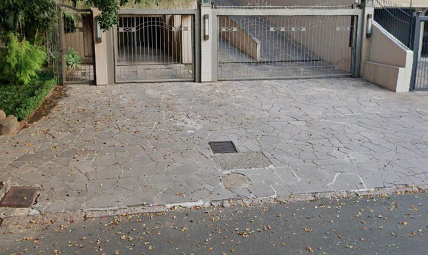vag45: (41, 161, 244, 232)
vag46: (261, 160, 423, 229)
